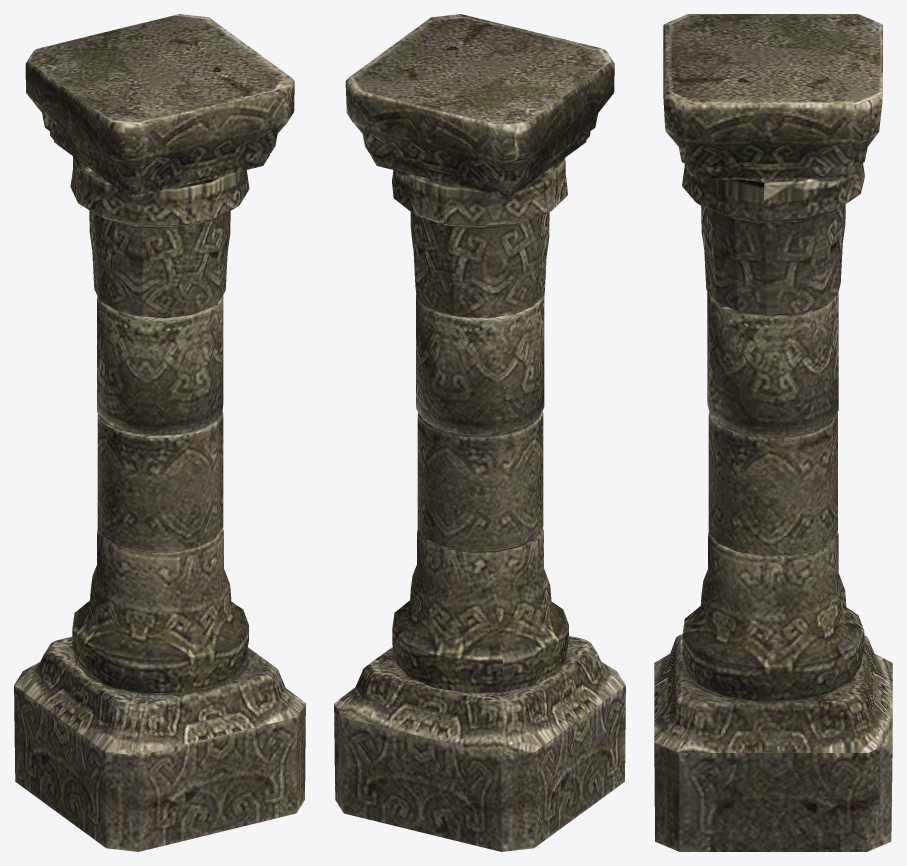
The model's file is RuineSet03.FBX.
3 renders of one model, left to right at view 1: azimuth 30°, elevation 25°; view 2: azimuth 150°, elevation 25°; view 3: azimuth 270°, elevation 25°, orthographic. The views are drawn at different scales.
Visible parts, largest first — view 1: Object001; view 2: Object001; view 3: Object001.
Boxes of the visible parts, bbox=[...] form: Object001: bbox=[14, 14, 305, 851]; Object001: bbox=[334, 14, 625, 851]; Object001: bbox=[654, 14, 892, 851].
Bounding box in the file's own units: 197 × 678 × 197.
